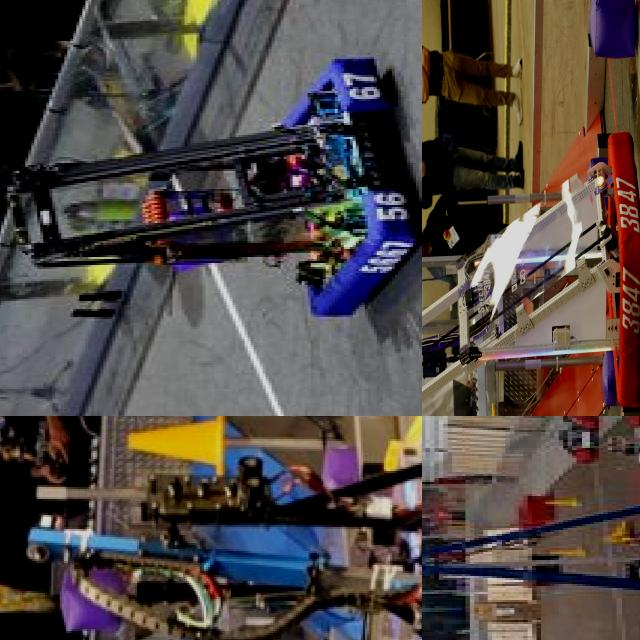FRC-Robots: (0, 40, 422, 347), (17, 416, 422, 640), (422, 120, 640, 416), (422, 484, 640, 616), (422, 332, 640, 416), (539, 416, 613, 468)
